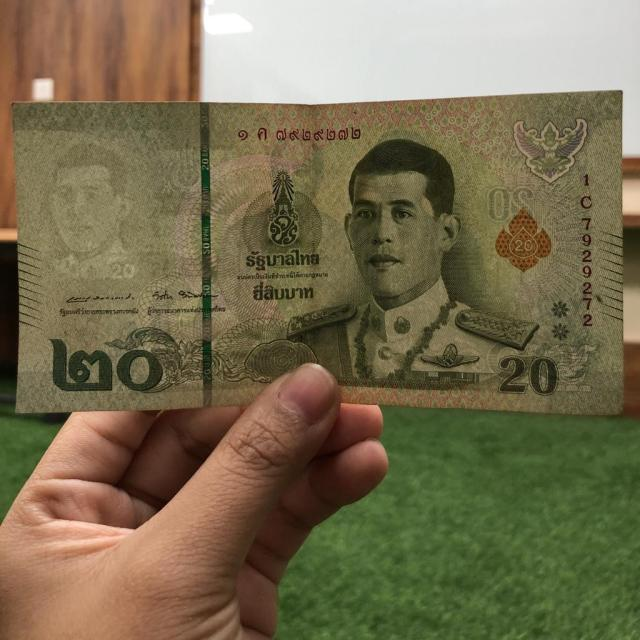THAI20: (11, 91, 625, 419)
